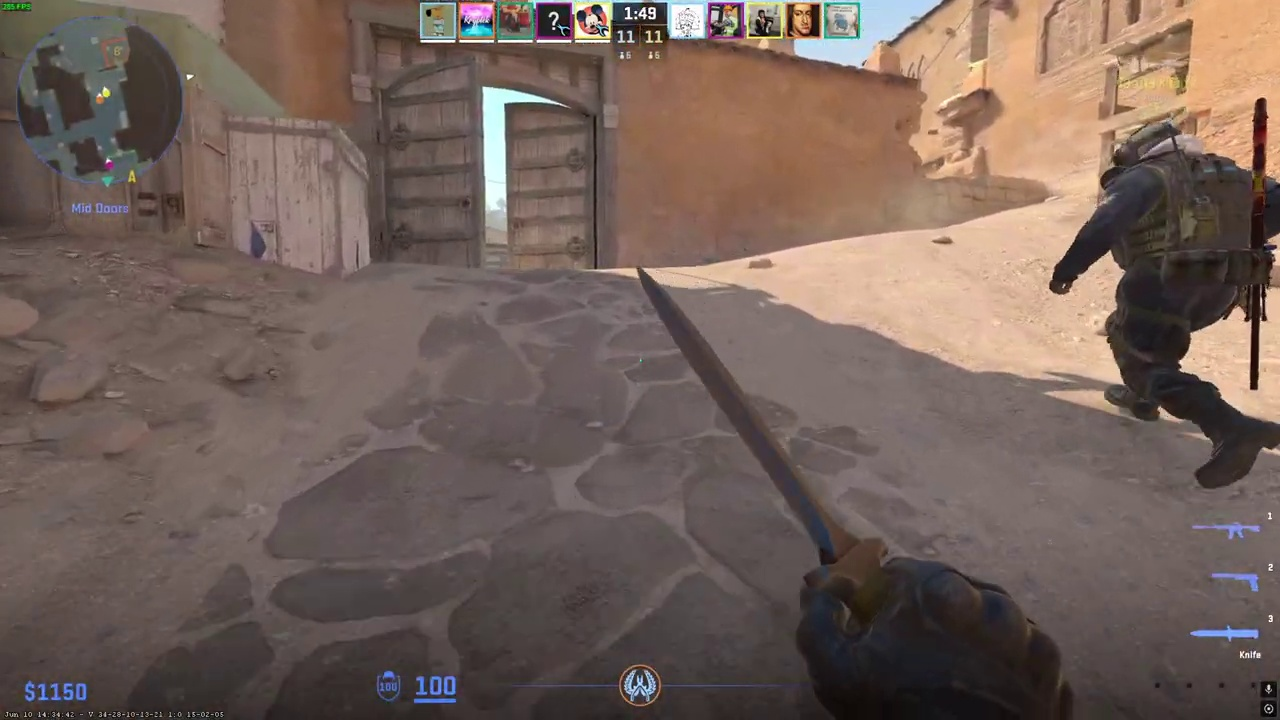CT: (1075, 121, 1277, 489)
